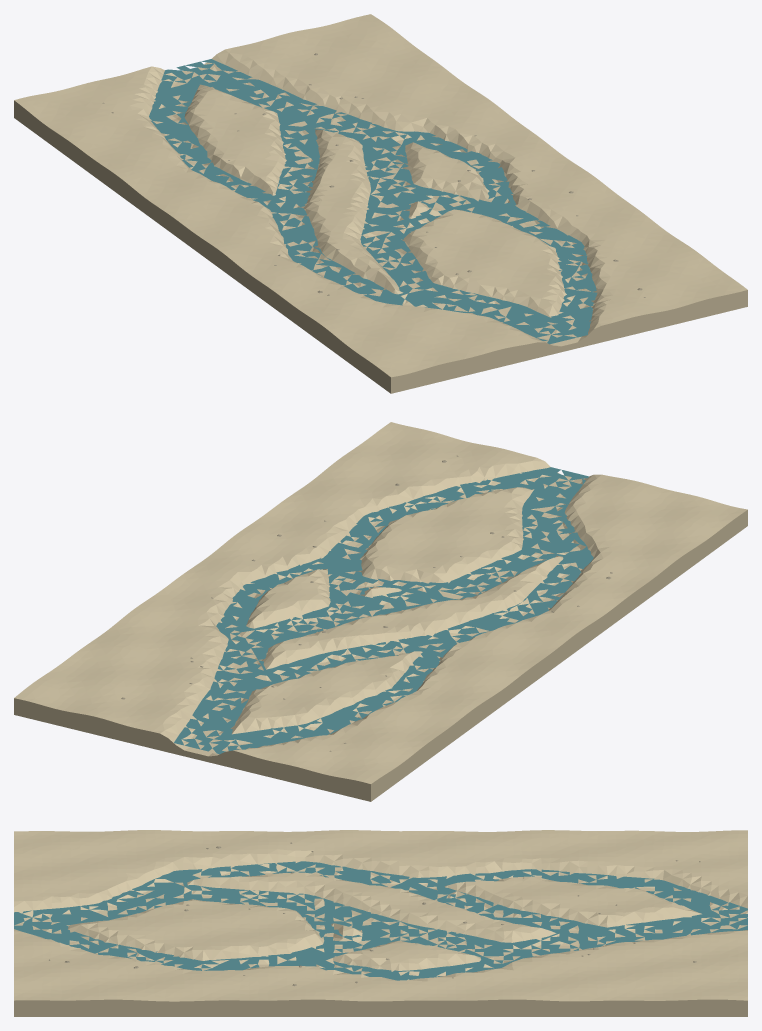
3 renders of one model, top to bottom at view 1: azimuth 30°, elevation 25°; view 2: azimuth 150°, elevation 25°; view 3: azimuth 270°, elevation 25°, orthographic. The views are drawn at different scales.
Parts seen in each view (by area): view 1: incised_continuous_alluvial_floodplain_and_unequal_bars, connected_shallow_water_clipped_to_inset_channels; view 2: incised_continuous_alluvial_floodplain_and_unequal_bars, connected_shallow_water_clipped_to_inset_channels; view 3: incised_continuous_alluvial_floodplain_and_unequal_bars, connected_shallow_water_clipped_to_inset_channels.
Boxes of the visible parts, x1,y1,x2,y2 form: incised_continuous_alluvial_floodplain_and_unequal_bars: (14, 14, 747, 393); connected_shallow_water_clipped_to_inset_channels: (149, 59, 597, 344); incised_continuous_alluvial_floodplain_and_unequal_bars: (14, 422, 747, 801); connected_shallow_water_clipped_to_inset_channels: (174, 467, 593, 754); incised_continuous_alluvial_floodplain_and_unequal_bars: (14, 830, 747, 1016); connected_shallow_water_clipped_to_inset_channels: (14, 861, 747, 980).
Size of the model in its own units: 82 by 4.02 by 150.
